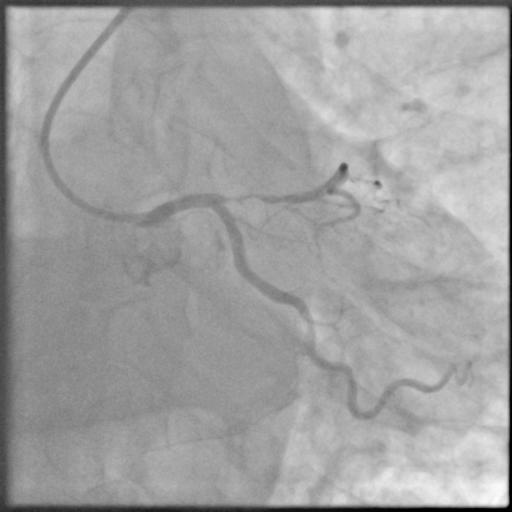Stenosis: (219, 189, 276, 203)
